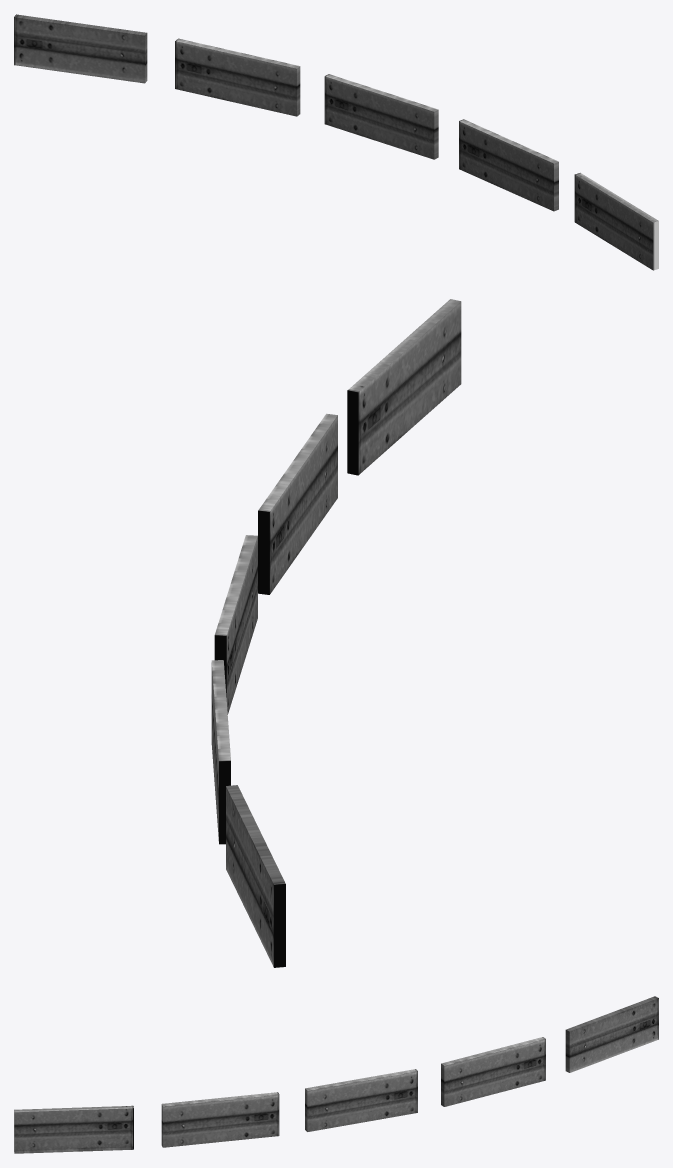
The model's file is 45road_guard.FBX.
3 views of the same model, one above another, from view 1: azimuth 30°, elevation 25°; view 2: azimuth 150°, elevation 25°; view 3: azimuth 270°, elevation 25° (orthographic). The views are drawn at different scales.
Visible parts, largest first — view 1: Object003; view 2: Object003; view 3: Object003.
Boxes of the visible parts, bbox=[...] form: Object003: bbox=[14, 14, 658, 270]; Object003: bbox=[211, 299, 461, 967]; Object003: bbox=[14, 996, 658, 1153].
Size of the model in its own units: 578 by 96.2 by 1356.
